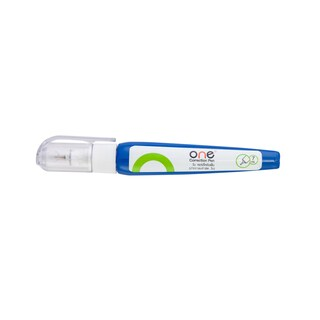Correction_fluid: (29, 131, 283, 180)
